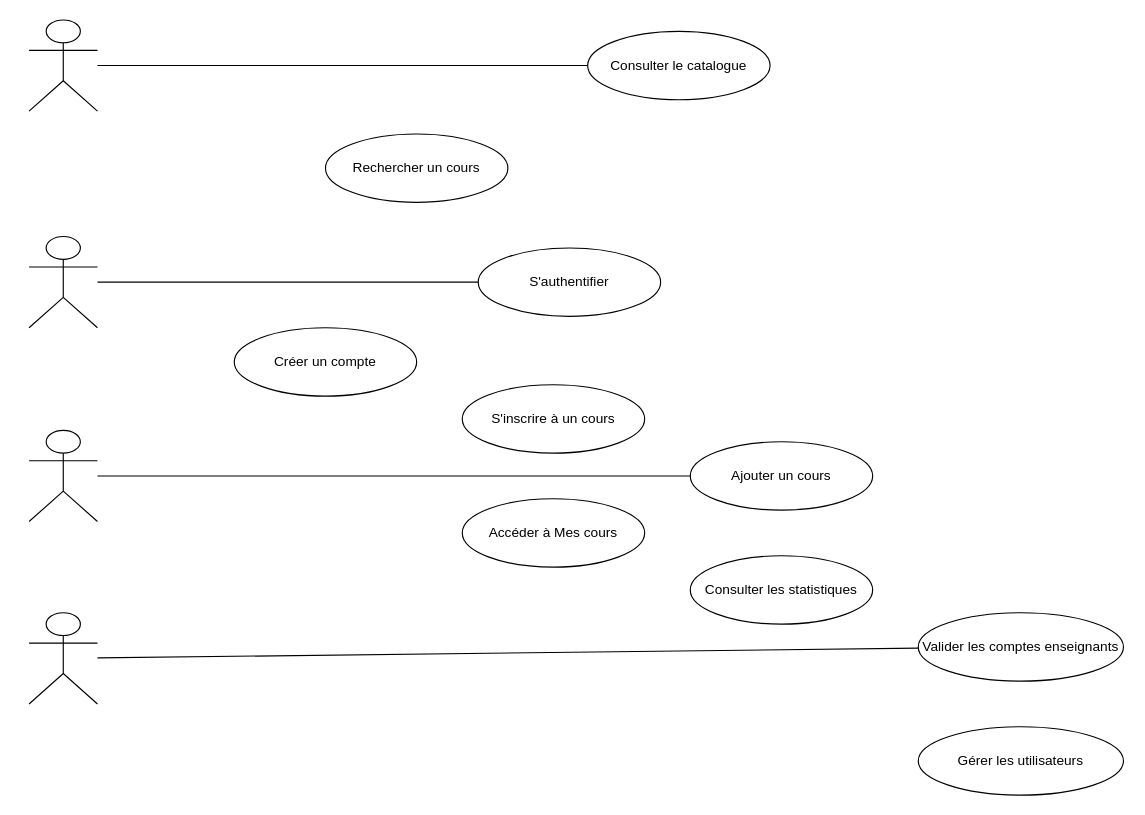
Image size: 1145x815. Some labels were removed from this diagram. The centre of each missing label's shape, as x and y in pixels:
"Administrateur" belongs at point 62,658.
"Enseignant" belongs at point 62,475.
"Visiteur" belongs at point 62,65.
"Étudiant" belongs at point 62,281.
